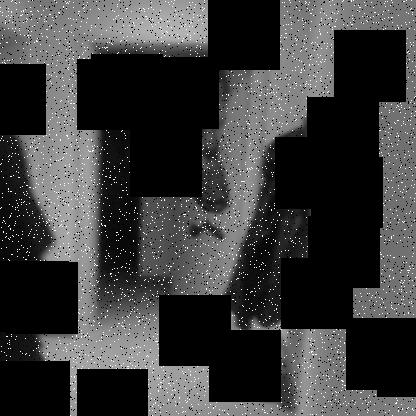Porte: (74, 33, 270, 346)
